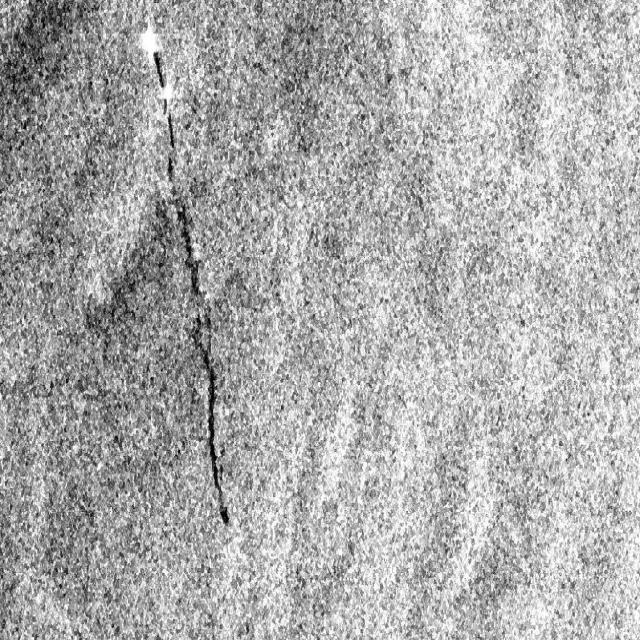look-alike: (78, 203, 168, 358), (2, 0, 90, 147)
oil-spill: (188, 309, 238, 532), (162, 121, 206, 298), (150, 52, 168, 90)
ship: (134, 18, 164, 63), (155, 81, 175, 109)
